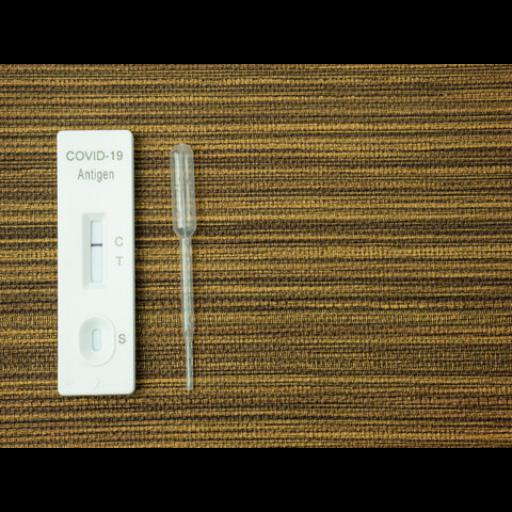Neg: (56, 130, 136, 392)
